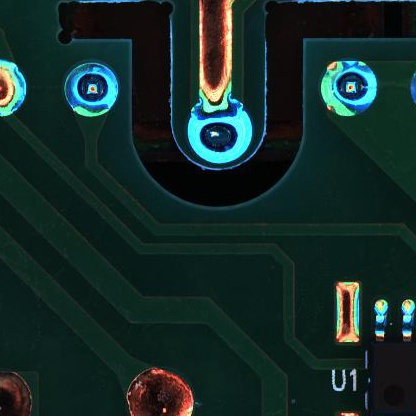spot: (187, 102, 254, 167), (318, 59, 380, 118), (62, 62, 121, 117)
